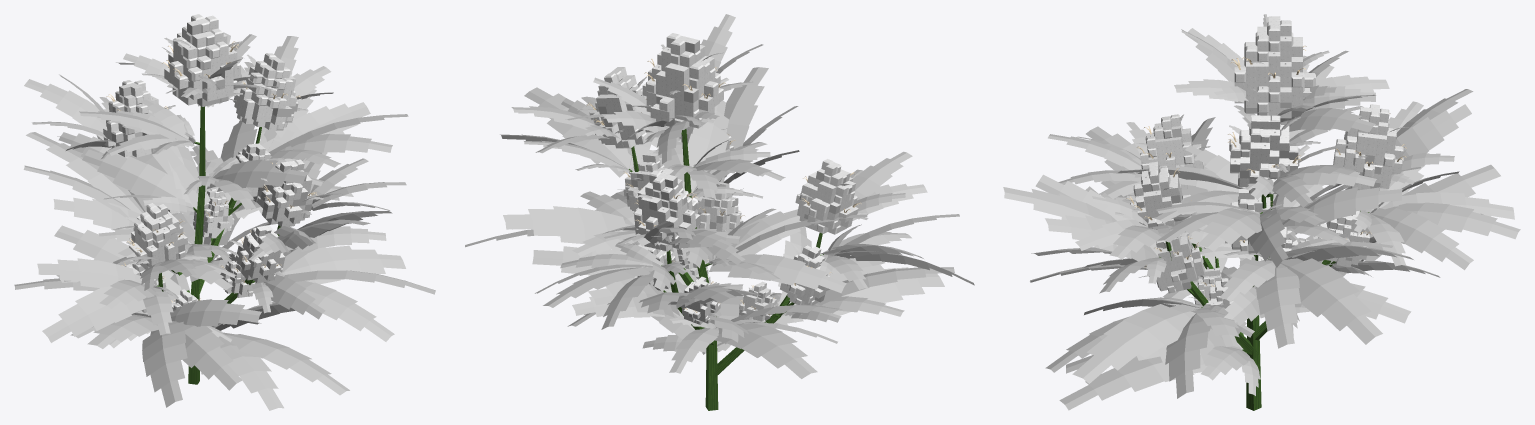
Rendered from plant_3_2_2.obj.
The picture shows the model from 3 angles, left to right: view 1: azimuth 30°, elevation 25°; view 2: azimuth 150°, elevation 25°; view 3: azimuth 270°, elevation 25°; orthographic projection. The views are drawn at different scales.
Visible parts, largest first — view 1: model; view 2: model; view 3: model.
Part boxes in pixels (x1,y1,x2,y2): model: (14,14,435,410); model: (465,14,974,410); model: (1003,14,1520,410).
Bounding box in the file's own units: 0.8292 × 0.7085 × 0.8407.
